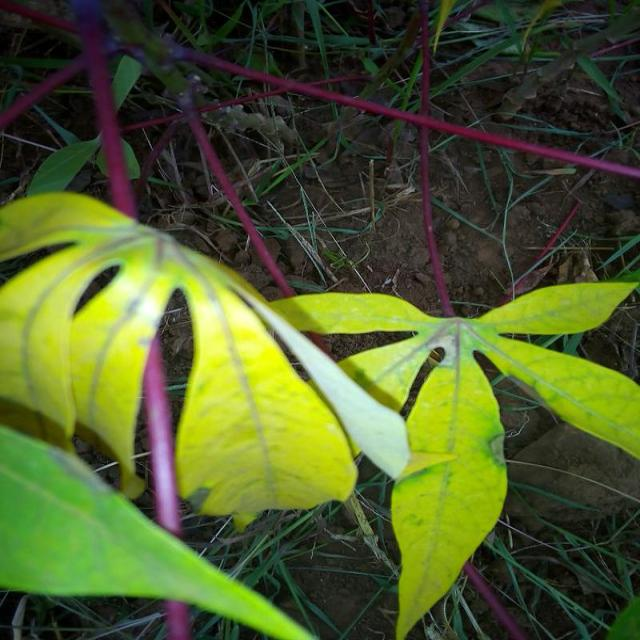cassava leaf: (2, 190, 410, 532), (255, 277, 640, 638), (2, 423, 319, 638)
